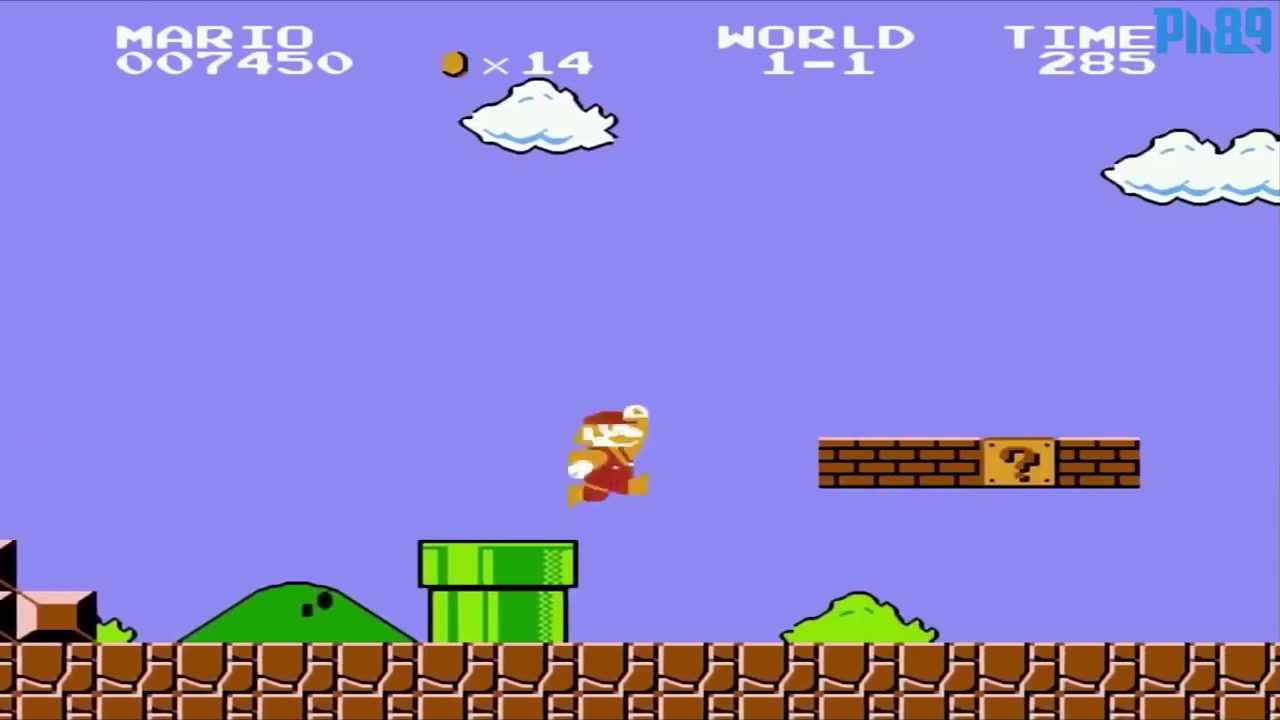mario: (551, 398, 682, 507)
